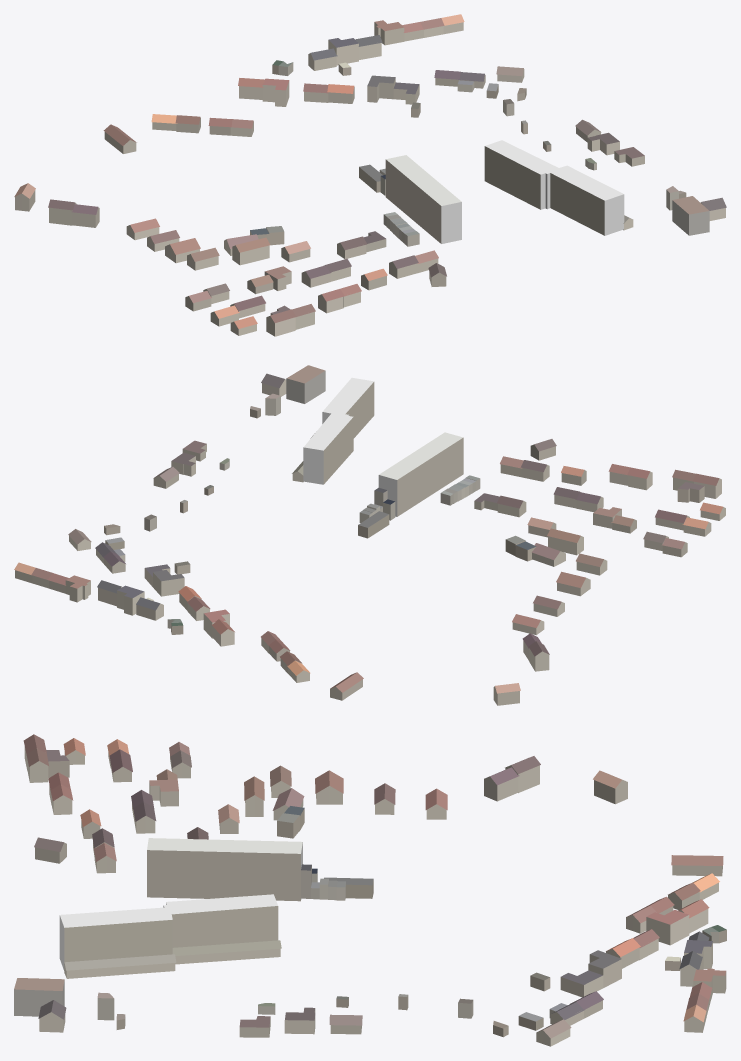
The picture shows the model from 3 angles, top to bottom: view 1: azimuth 30°, elevation 25°; view 2: azimuth 150°, elevation 25°; view 3: azimuth 270°, elevation 25°; orthographic projection. The views are drawn at different scales.
Visible parts, largest first — view 1: tuile; view 2: tuile; view 3: tuile.
Boxes of the visible parts, x1,y1,x2,y2 form: tuile: (14,14,726,336); tuile: (14,365,725,705); tuile: (14,734,726,1046).
Bounding box in the file's own units: 256 × 40.12 × 260.
